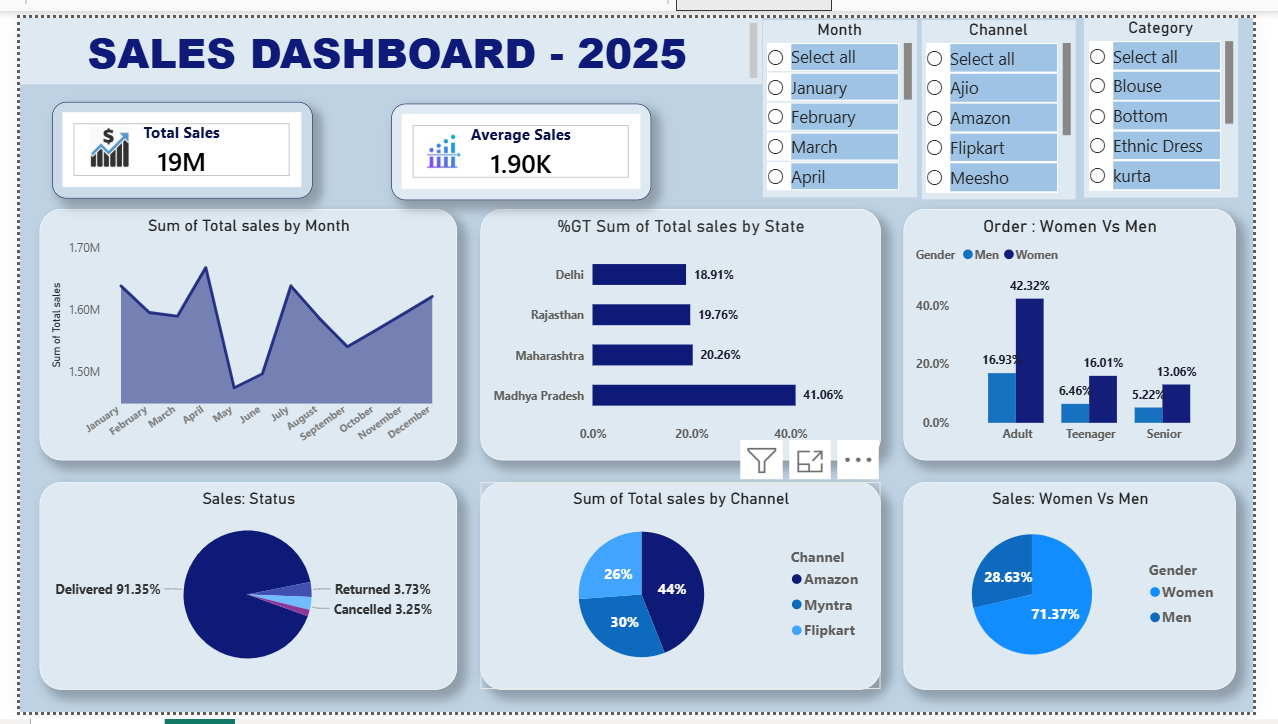

Layout of this report page (visuals, bound fields, positions):
{"tool":"powerbi","page":{"name":"Page 1","canvas":[1280,720],"ordinal":0},"visuals":[{"type":"areaChart","fields":{"Category":["Data.Date.Variation.Date Hierarchy.Month"],"Y":["Sum(Data.Amount)"]},"box":[19.6,198,433.3,260.8],"z":0},{"type":"barChart","fields":{"Category":["Data.State"],"Y":["Divide(Sum(Data.Amount), ScopedEval(Sum(Data.Amount), []))"]},"box":[478.4,198,415.7,260.8],"z":1000},{"type":"pieChart","title":"Sales: Women Vs Men","fields":{"Y":["Sum(Data.Amount)"],"Category":["Data.Gender"]},"box":[917.6,482.4,345.1,215.7],"z":2000},{"type":"pieChart","fields":{"Category":["Data.Channel"],"Y":["Sum(Data.Amount)"]},"box":[478.4,482.4,415.7,215.7],"z":3000},{"type":"clusteredColumnChart","title":"Order : Women Vs Men","fields":{"Category":["Data.Age Group"],"Y":["Divide(CountNonNull(Data.Order ID), ScopedEval(CountNonNull(Data.Order ID), []))"],"Series":["Data.Gender"]},"box":[917.6,198,345.1,260.8],"z":4000},{"type":"pieChart","title":"Sales: Status","fields":{"Category":["Data.Status"],"Y":["Sum(Data.Amount)"]},"box":[19.6,482.4,433.3,215.7],"z":5000},{"type":"textbox","box":[0,0,770.6,68.6],"z":6000},{"type":"listSlicer","fields":{"Values":["Data.Category"]},"box":[1105.9,0,160,186.3],"z":7000},{"type":"listSlicer","fields":{"Values":["Data.Channel"]},"box":[937.3,2,160,186.3],"z":8000},{"type":"listSlicer","fields":{"Values":["Data.Date.Variation.Date Hierarchy.Month"]},"box":[770.6,2,160,184.3],"z":9000},{"type":"cardVisual","fields":{"Data":["Sum(Data.Amount)"]},"box":[35.2,87.1,255.9,98.3],"z":10000},{"type":"cardVisual","fields":{"Data":["Avg(Data.Amount)"]},"box":[398.7,85.3,255,98],"z":11000},{"type":"image","box":[55.6,116.7,45.6,43.3],"z":12000},{"type":"image","box":[418,120,46,36],"z":13000}]}

Visuals, with their boxes in screenshot pixels (x1, y1, x2, y2), scaled from the page's 1280x720 canvas onto the 1278x724 screenshot:
areaChart - Data.Date.Variation.Date Hierarchy.Month x Sum(Data.Amount): BBox(20, 199, 452, 461)
barChart - Data.State x Divide(Sum(Data.Amount), ScopedEval(Sum(Data.Amount), [])): BBox(478, 199, 893, 461)
"Sales: Women Vs Men" pieChart: BBox(916, 485, 1261, 702)
pieChart - Data.Channel x Sum(Data.Amount): BBox(478, 485, 893, 702)
"Order : Women Vs Men" clusteredColumnChart: BBox(916, 199, 1261, 461)
"Sales: Status" pieChart: BBox(20, 485, 452, 702)
textbox: BBox(0, 0, 769, 69)
listSlicer - Data.Category: BBox(1104, 0, 1264, 187)
listSlicer - Data.Channel: BBox(936, 2, 1096, 189)
listSlicer - Data.Date.Variation.Date Hierarchy.Month: BBox(769, 2, 929, 187)
cardVisual - Sum(Data.Amount): BBox(35, 88, 291, 186)
cardVisual - Avg(Data.Amount): BBox(398, 86, 653, 184)
image: BBox(56, 117, 101, 161)
image: BBox(417, 121, 463, 157)
